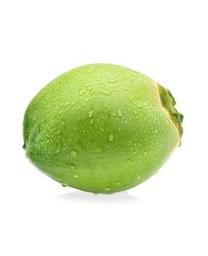coconut: (19, 61, 187, 196)
